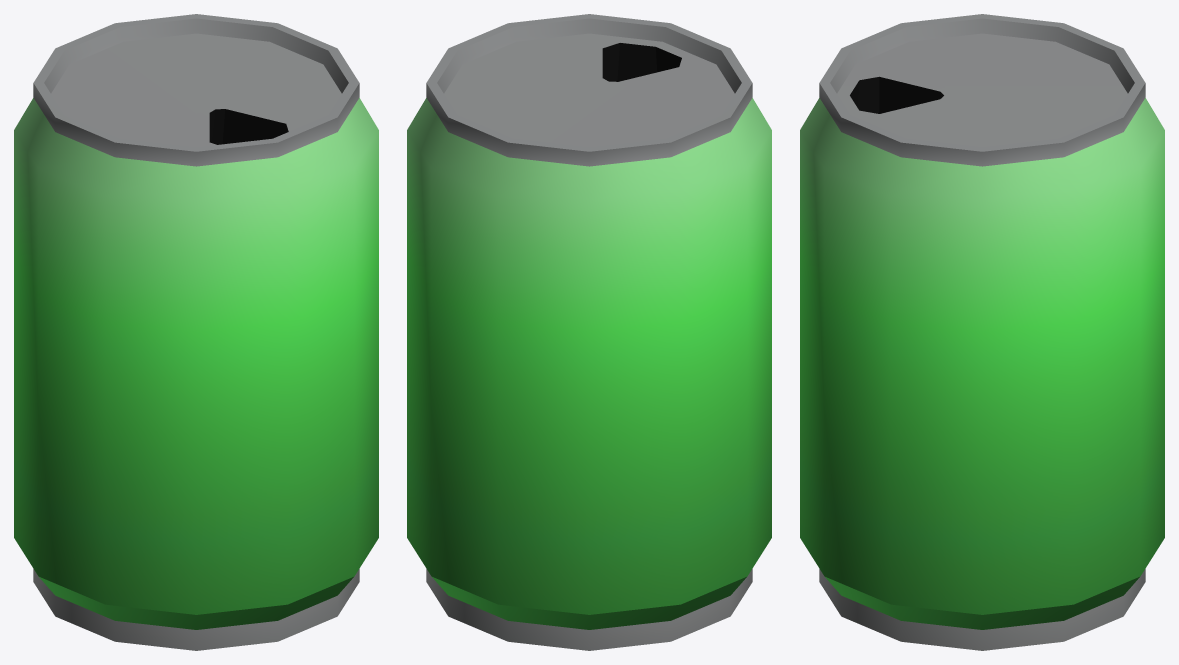
The model's file is Can_Lemonade.fbx.
3 renders of one model, left to right at view 1: azimuth 30°, elevation 25°; view 2: azimuth 150°, elevation 25°; view 3: azimuth 270°, elevation 25°, orthographic.
Visible parts, largest first — view 1: Can_Lemonade; view 2: Can_Lemonade; view 3: Can_Lemonade.
Boxes of the visible parts, <box> form: Can_Lemonade: <box>14,14,378,650</box>; Can_Lemonade: <box>407,14,771,650</box>; Can_Lemonade: <box>800,14,1164,650</box>.
Bounding box in the file's own units: 9.25 × 13.95 × 9.25.
